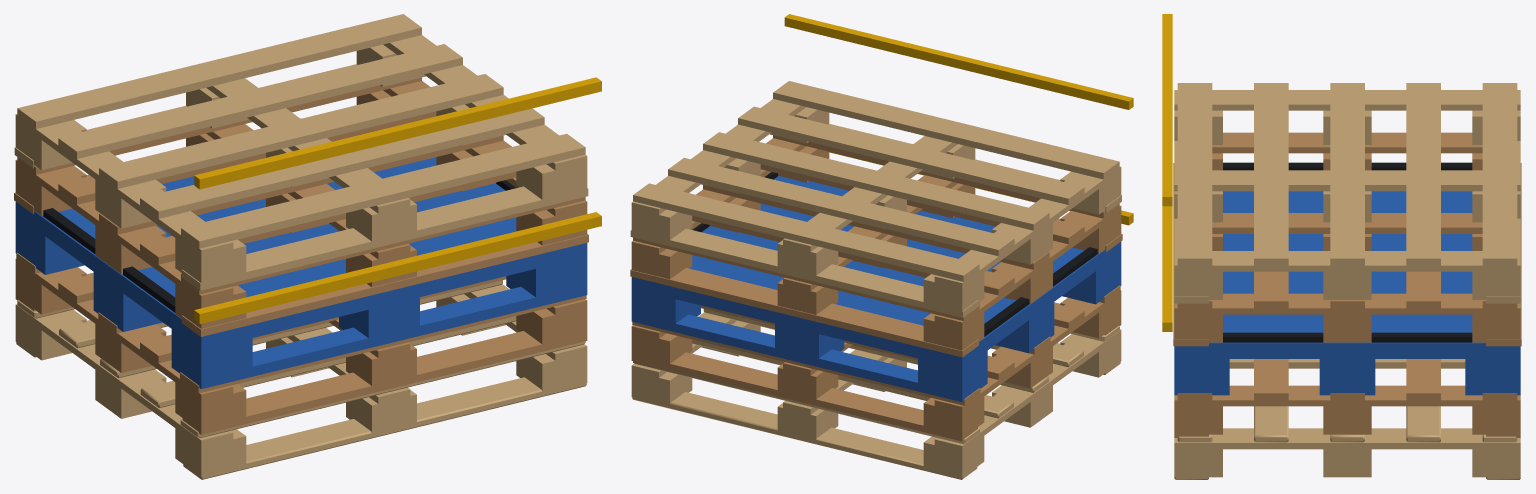
Rendered from pallet_empty_stack.glb.
The picture shows the model from 3 angles, left to right: view 1: azimuth 30°, elevation 25°; view 2: azimuth 150°, elevation 25°; view 3: azimuth 270°, elevation 25°; orthographic projection. The views are drawn at different scales.
Parts seen in each view (by area): view 1: pallet_empty_stack; view 2: pallet_empty_stack; view 3: pallet_empty_stack.
Boxes of the visible parts, bbox=[...] form: pallet_empty_stack: bbox=[14, 14, 601, 479]; pallet_empty_stack: bbox=[630, 14, 1133, 479]; pallet_empty_stack: bbox=[1162, 14, 1521, 479].
Bounding box in the file's own units: 1.25 × 0.915 × 1.04.
